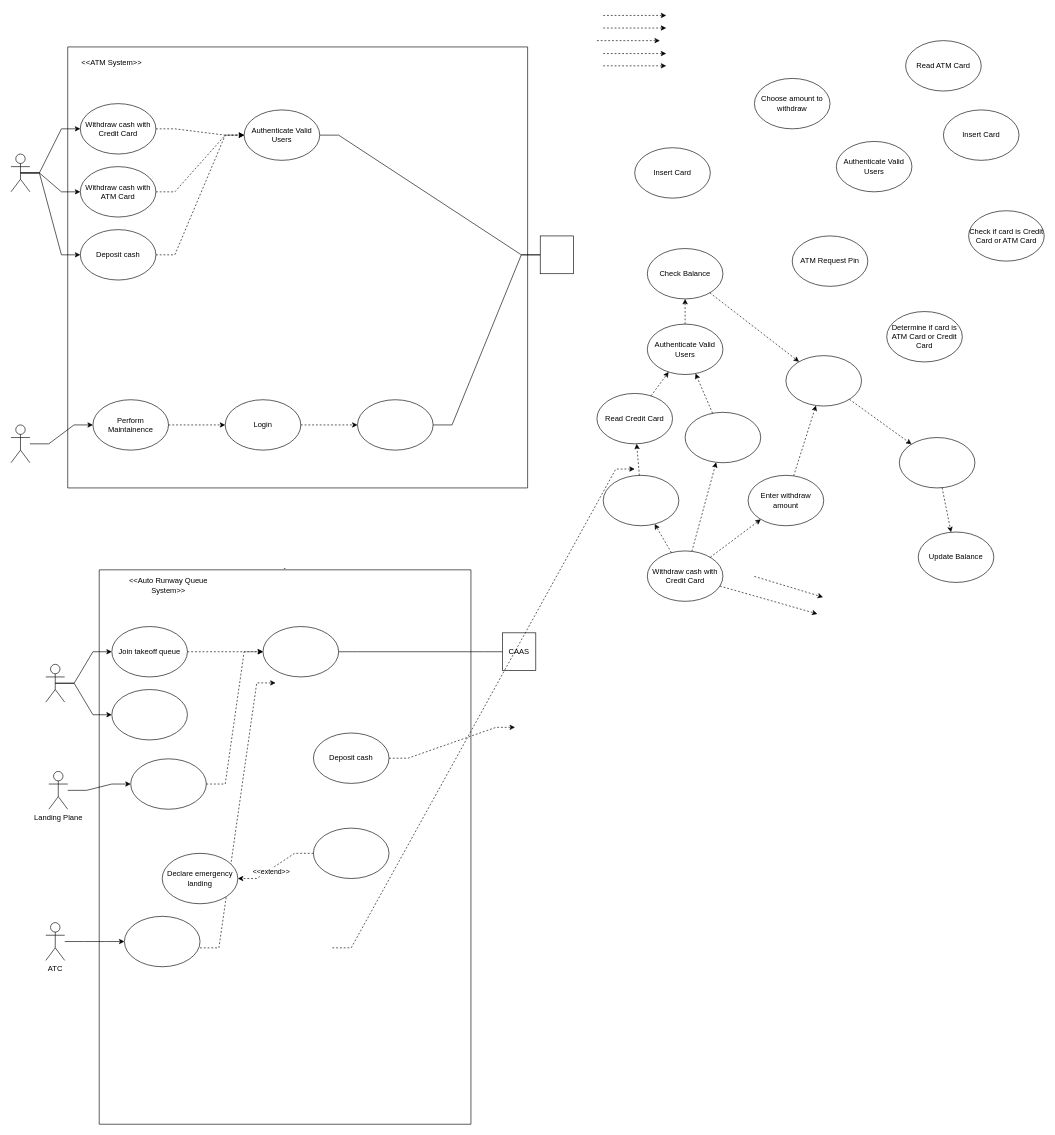
Some shapes in this 1055 by 1135 pixel diagram are drawn without their labels. Each missing label, with the box of its shape:
Authenticate Login: (357, 399, 433, 450)
Bank System: (540, 235, 574, 274)
Check if sufficient Balance: (785, 355, 862, 406)
Cut landing queue Take priority: (313, 828, 389, 879)
Departing Plane: (45, 664, 65, 702)
Dispense cash: (899, 437, 975, 488)
Drop takeoff queue: (111, 689, 187, 740)
Enter Pin: (684, 412, 761, 463)
Insert Credit Card: (603, 475, 679, 526)
Join landing queue: (130, 758, 206, 809)
Manual Overide: (124, 916, 200, 967)
Staff: (10, 424, 30, 463)
User: (10, 153, 30, 192)
Validate flight plan: (262, 626, 339, 677)
